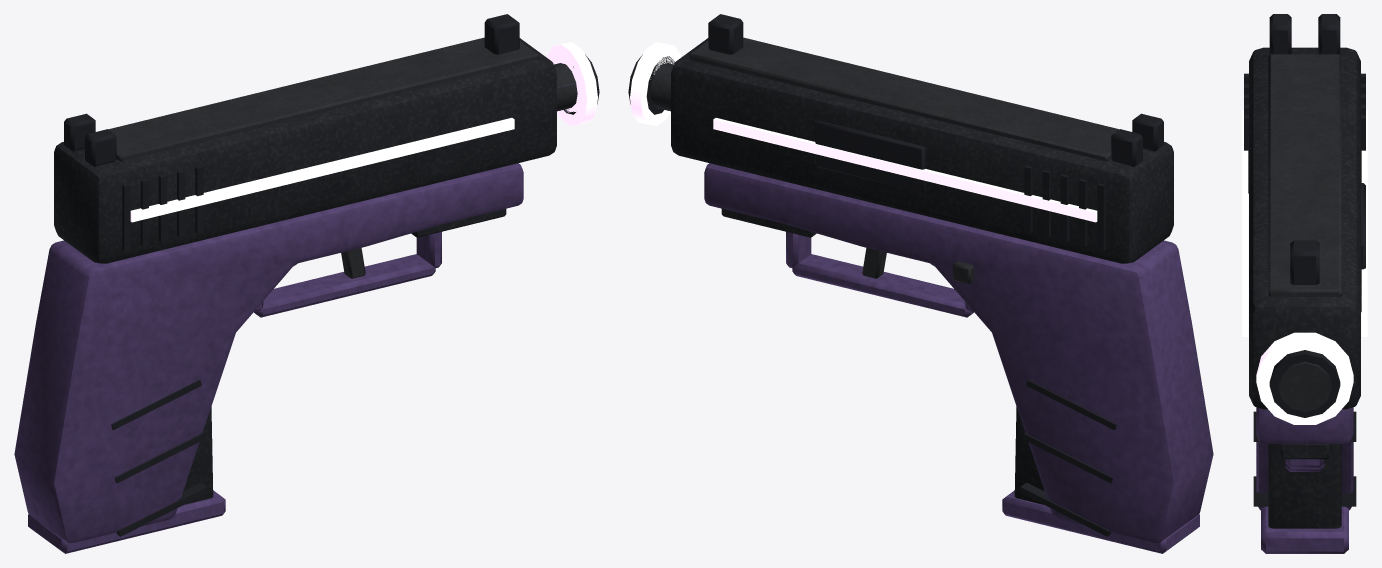
The model's file is pistol_r3.fbx.
The picture shows the model from 3 angles, left to right: view 1: azimuth 30°, elevation 25°; view 2: azimuth 150°, elevation 25°; view 3: azimuth 270°, elevation 25°; orthographic projection. The views are drawn at different scales.
Parts seen in each view (by area): view 1: Body, Slide, Glow, Magazine; view 2: Body, Slide, Glow, Magazine; view 3: Slide, Body, Magazine, Glow.
Boxes of the visible parts, x1=… form: Body: x1=14, y1=54, x2=599, y2=542; Slide: x1=54, y1=14, x2=556, y2=263; Glow: x1=130, y1=42, x2=597, y2=222; Magazine: x1=28, y1=406, x2=225, y2=553; Body: x1=628, y1=54, x2=1213, y2=542; Slide: x1=671, y1=14, x2=1173, y2=263; Glow: x1=630, y1=42, x2=1097, y2=222; Magazine: x1=1002, y1=406, x2=1199, y2=553; Slide: x1=1244, y1=14, x2=1365, y2=409; Body: x1=1253, y1=296, x2=1361, y2=510; Magazine: x1=1261, y1=444, x2=1348, y2=553; Glow: x1=1242, y1=109, x2=1367, y2=424.
Size of the model in its own units: 3.04 by 2.16 by 0.515.
2 materials, 1 textured.
